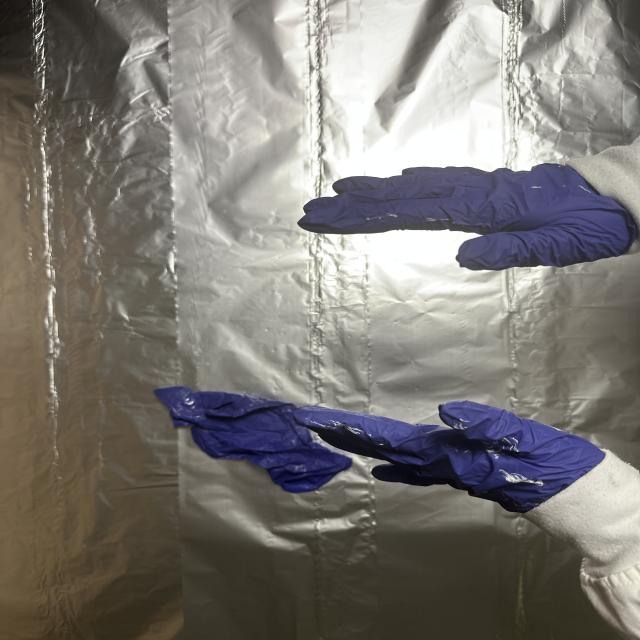gloves_contaminated: (298, 165, 636, 270), (294, 402, 605, 514)
